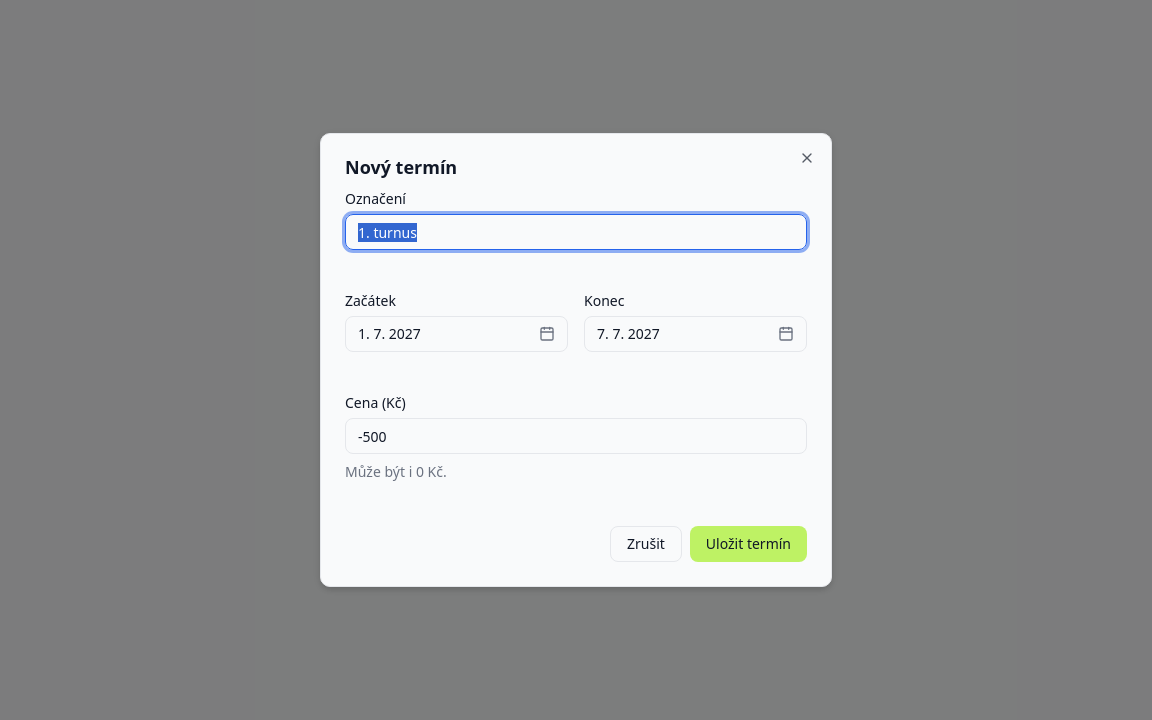
TermForm › rejects the price -500
This screenshot has width=1152, height=720.
What coordinates should you click on to do the following:
click the button "Uložit termín"
I would click on:
 (748, 544)
Its box is [690,526,807,562].
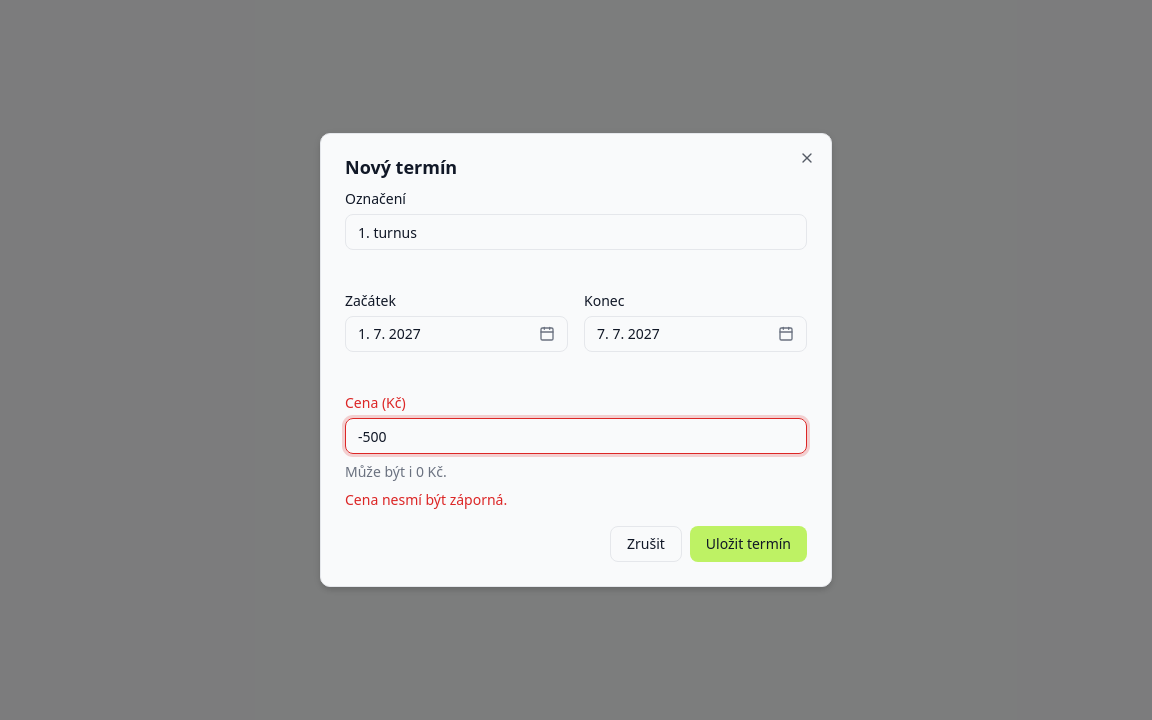
Expected: the text "Cena nesmí být záporná." is shown, [345,490,507,509]
